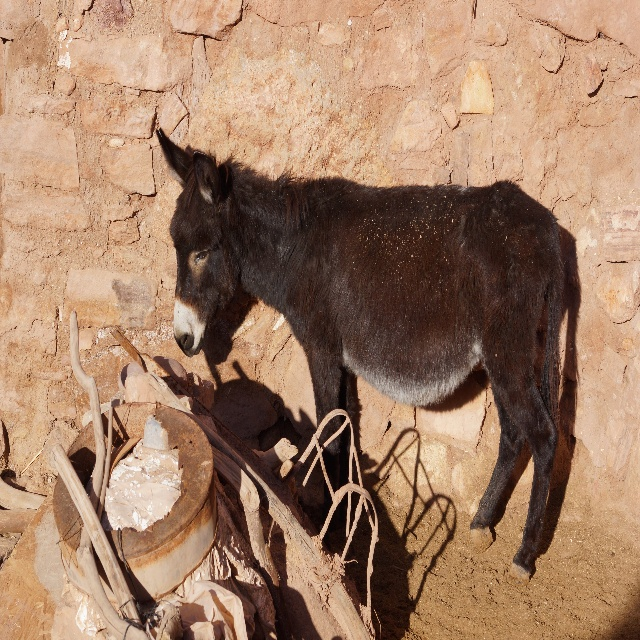Mule: (154, 127, 567, 586)
